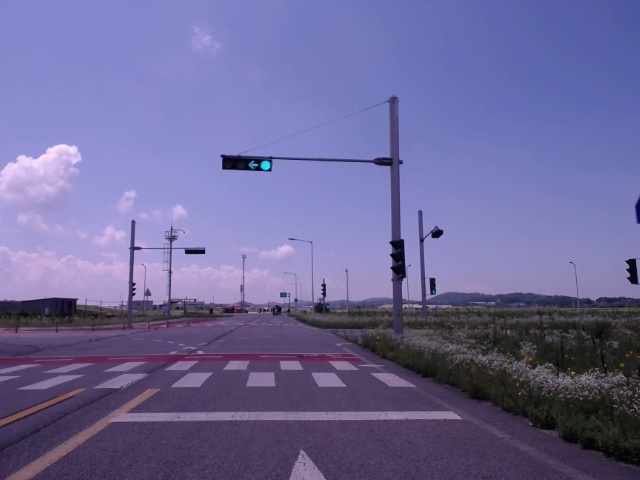all_green_4: (223, 155, 272, 173)
